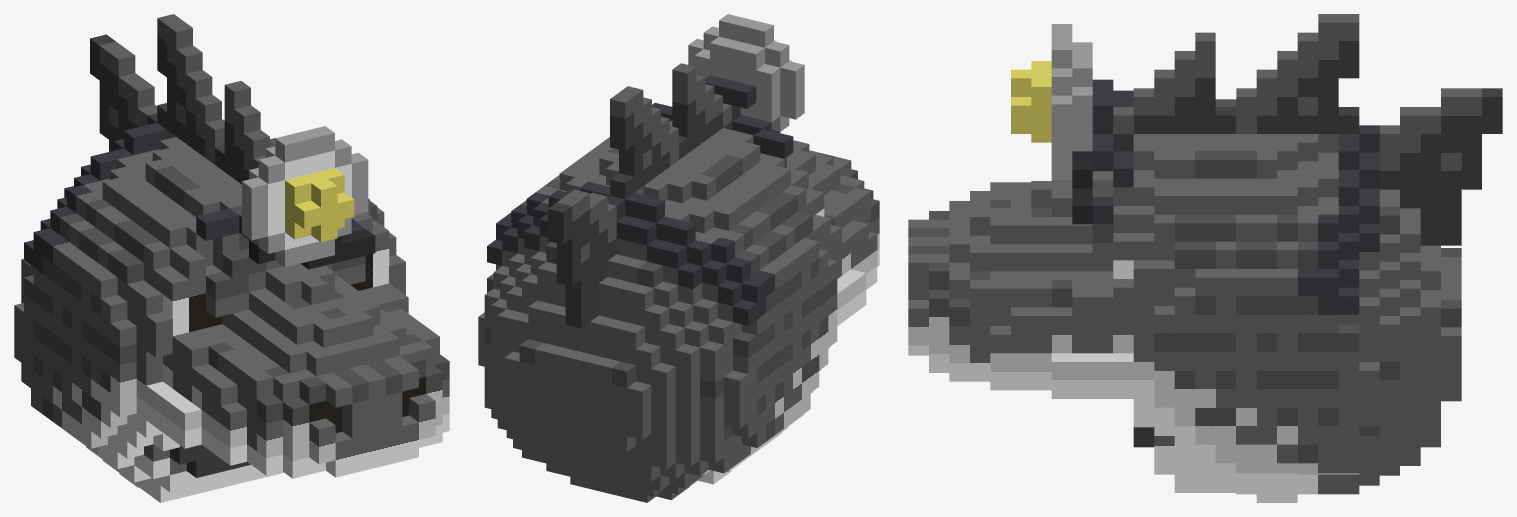
File: doctor_skydiving goggles.gltf
3 renders of one model, left to right at view 1: azimuth 30°, elevation 25°; view 2: azimuth 150°, elevation 25°; view 3: azimuth 270°, elevation 25°, orthographic. The views are drawn at different scales.
Parts seen in each view (by area): view 1: C15_H_DoctorL_EyeP_SkyDiving-Mesh; view 2: C15_H_DoctorL_EyeP_SkyDiving-Mesh; view 3: C15_H_DoctorL_EyeP_SkyDiving-Mesh.
Part boxes in pixels (<box>): C15_H_DoctorL_EyeP_SkyDiving-Mesh: <box>14,14,449,502</box>; C15_H_DoctorL_EyeP_SkyDiving-Mesh: <box>478,14,879,502</box>; C15_H_DoctorL_EyeP_SkyDiving-Mesh: <box>908,14,1502,502</box>.
Size of the model in its own units: 17 by 24 by 29.
1 material, 1 textured.
